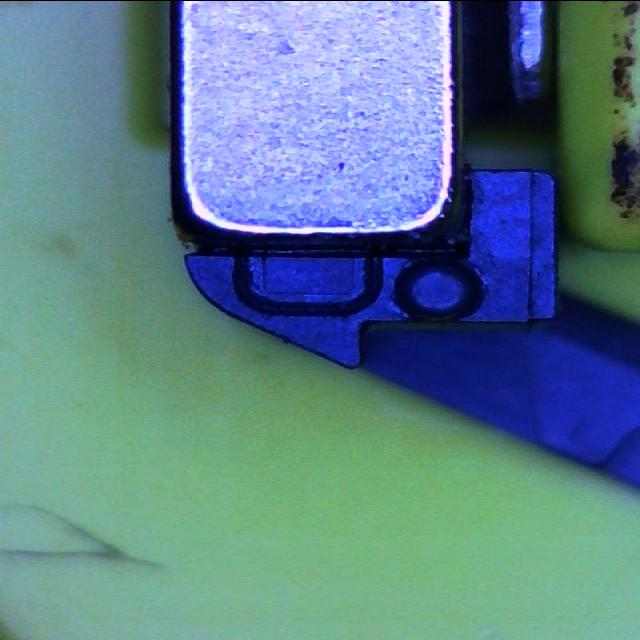lacking: (230, 248, 384, 318)
